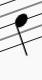note: (9, 1, 40, 58)
